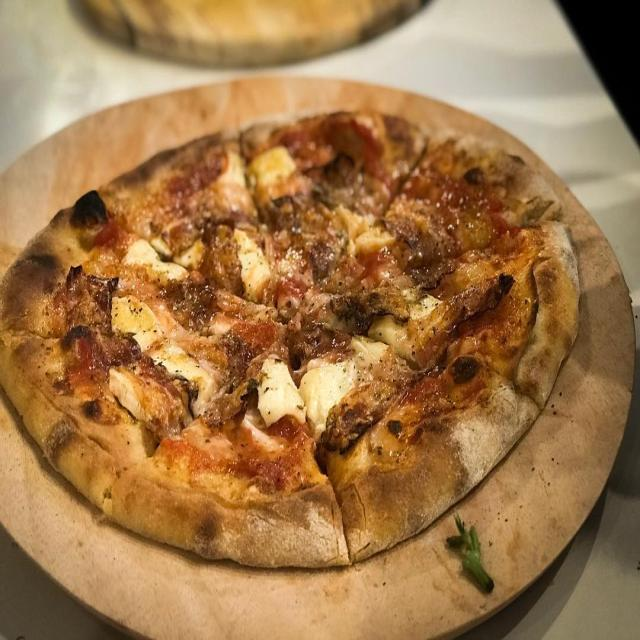pizza: (0, 105, 582, 573)
